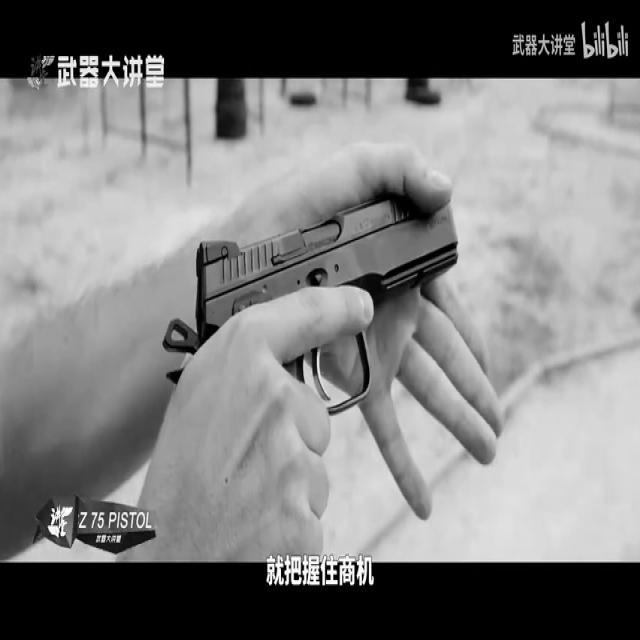Hand-Gun: (179, 179, 462, 478)
